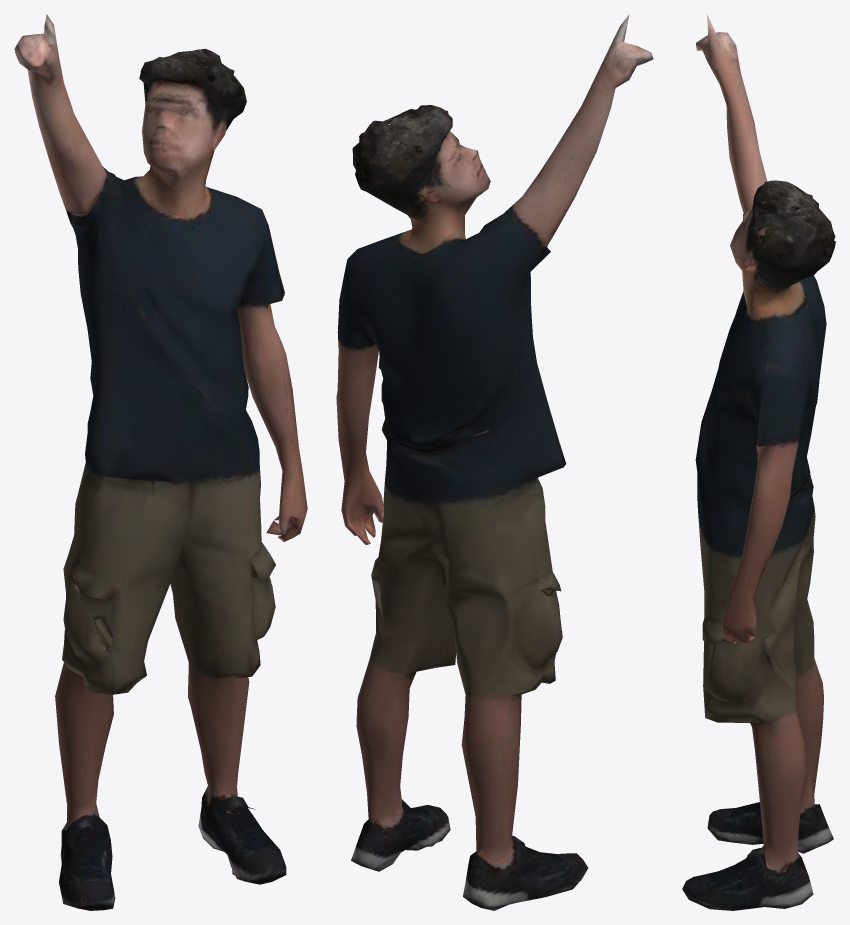
File: fan-m-point-s1.lo.glb
The picture shows the model from 3 angles, left to right: view 1: azimuth 30°, elevation 25°; view 2: azimuth 150°, elevation 25°; view 3: azimuth 270°, elevation 25°; orthographic projection. The views are drawn at different scales.
Visible parts, largest first — view 1: geometry_0; view 2: geometry_0; view 3: geometry_0.
Boxes of the visible parts, box(x1,y1,x2,y2) form: geometry_0: box(14, 14, 307, 910); geometry_0: box(336, 14, 653, 910); geometry_0: box(682, 14, 835, 910).
Size of the model in its own units: 0.3398 by 0.9913 by 0.1734.
Materials: 1 (1 with a texture image).
